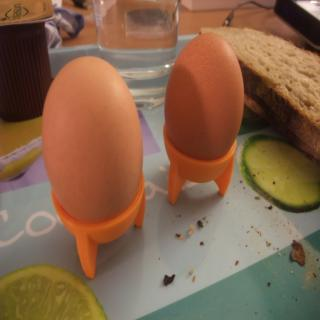Egg: (43, 56, 144, 224), (164, 35, 244, 160)
